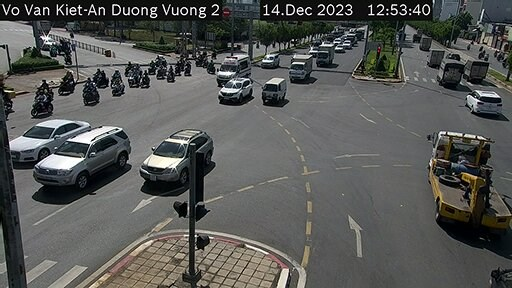car: (35, 124, 130, 199), (7, 116, 97, 172), (145, 119, 211, 181), (215, 72, 259, 106), (257, 74, 286, 110), (461, 91, 498, 113), (258, 48, 278, 65)
motorbike: (76, 77, 98, 103), (61, 71, 81, 95), (31, 91, 50, 115), (110, 80, 124, 98), (136, 73, 150, 87)
truck: (429, 123, 506, 237), (461, 52, 491, 83), (290, 49, 312, 85), (439, 62, 464, 89), (421, 46, 441, 74), (315, 45, 337, 68)
